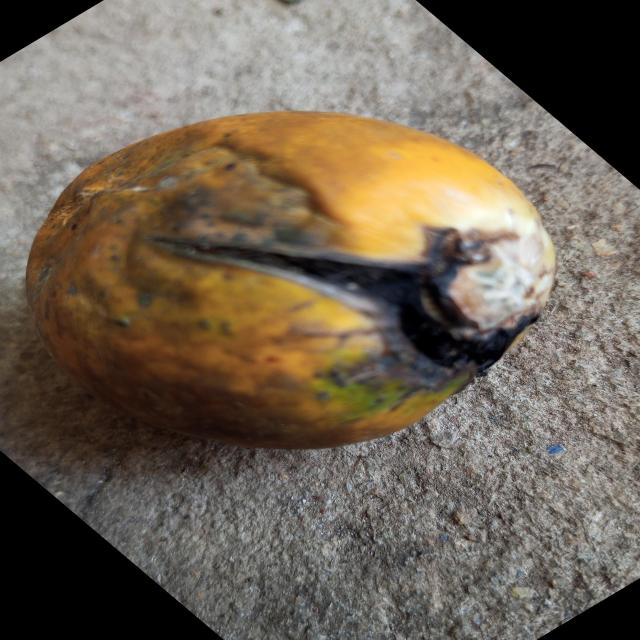damaged: (27, 112, 555, 448)
